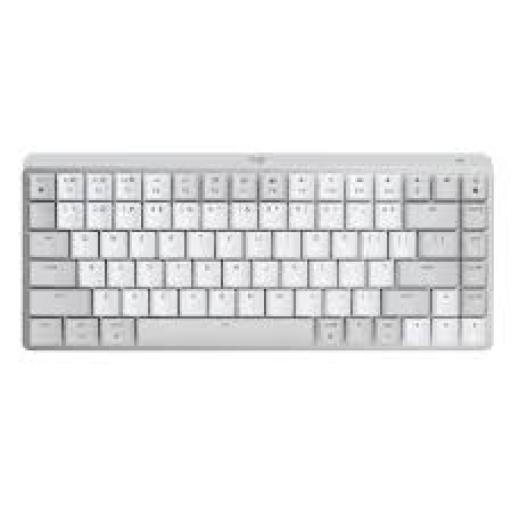keyboard: (23, 155, 492, 348)
